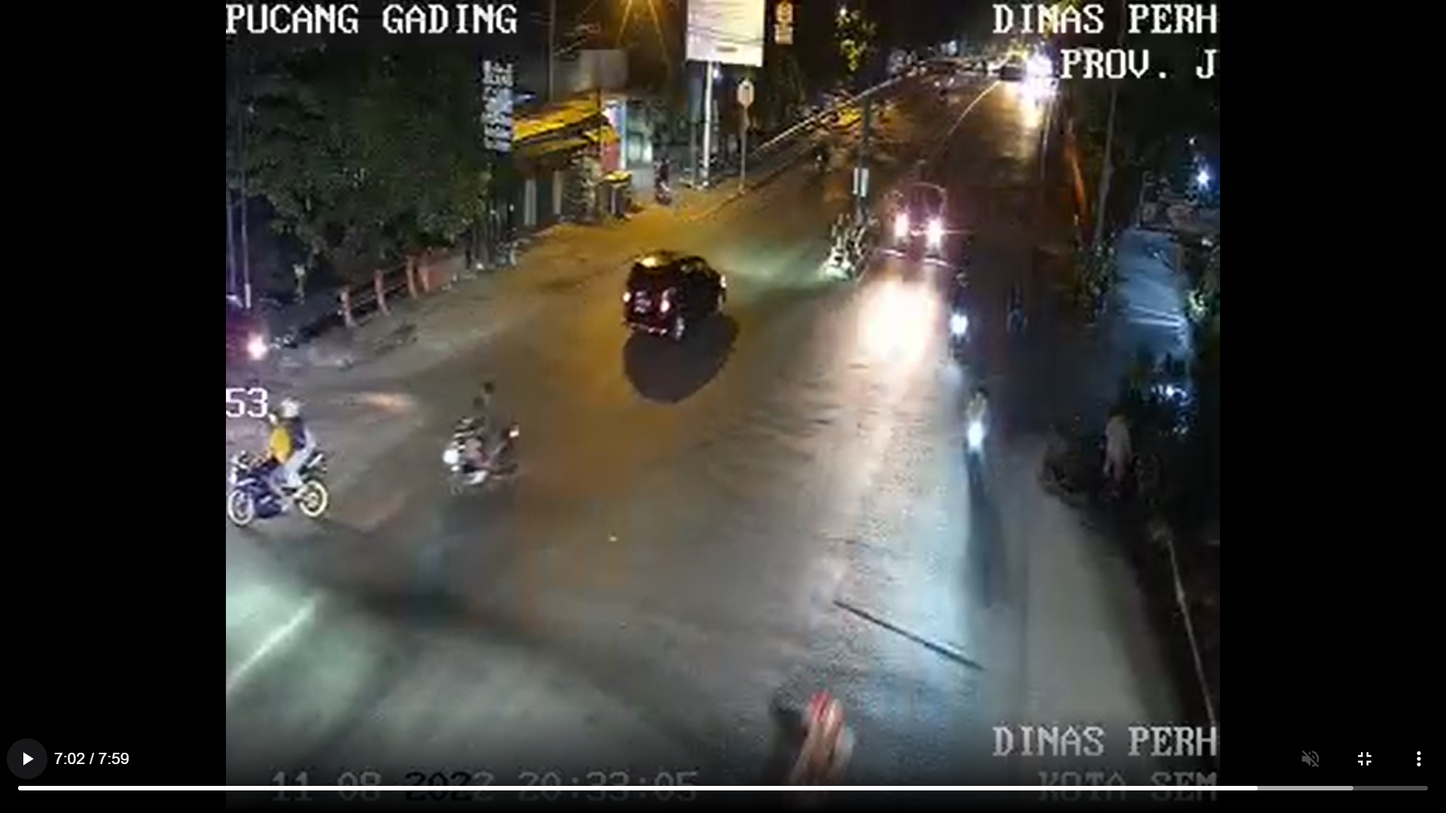without_helmet: (210, 390, 353, 528), (429, 362, 541, 507)
